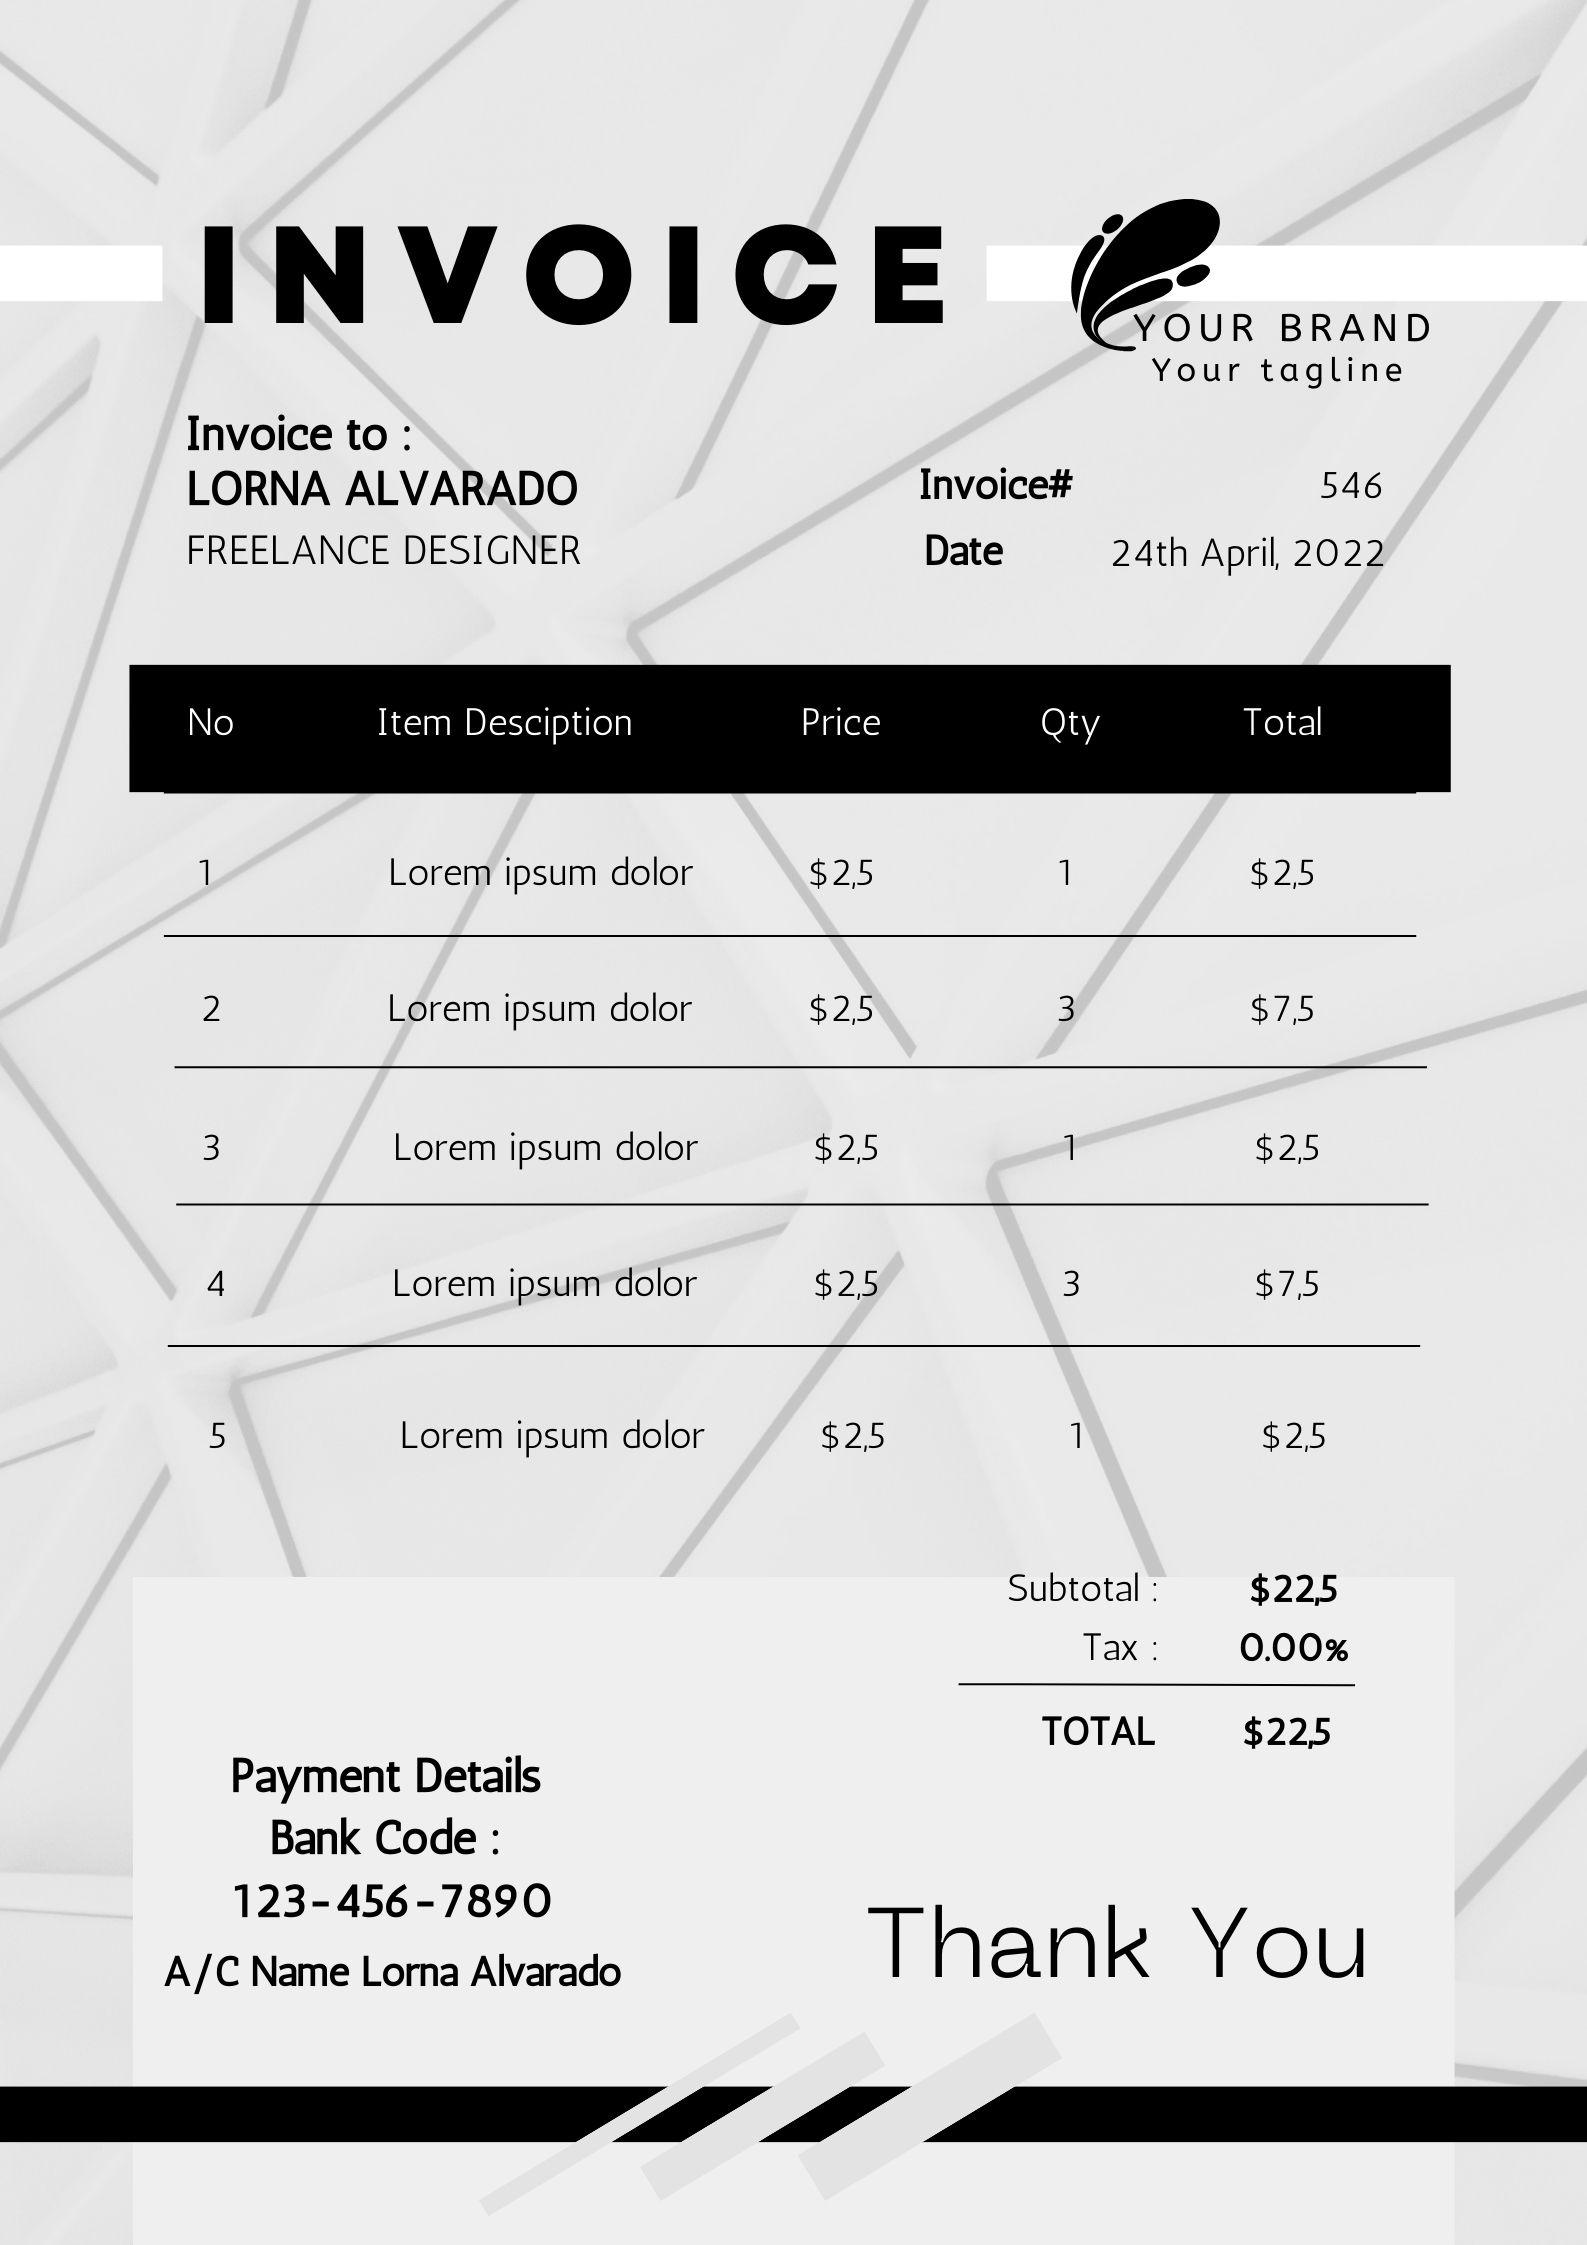ROI: (96, 644, 1481, 1493), (113, 1716, 663, 2030), (907, 1541, 1403, 1786), (117, 369, 620, 603), (840, 421, 1427, 610)
